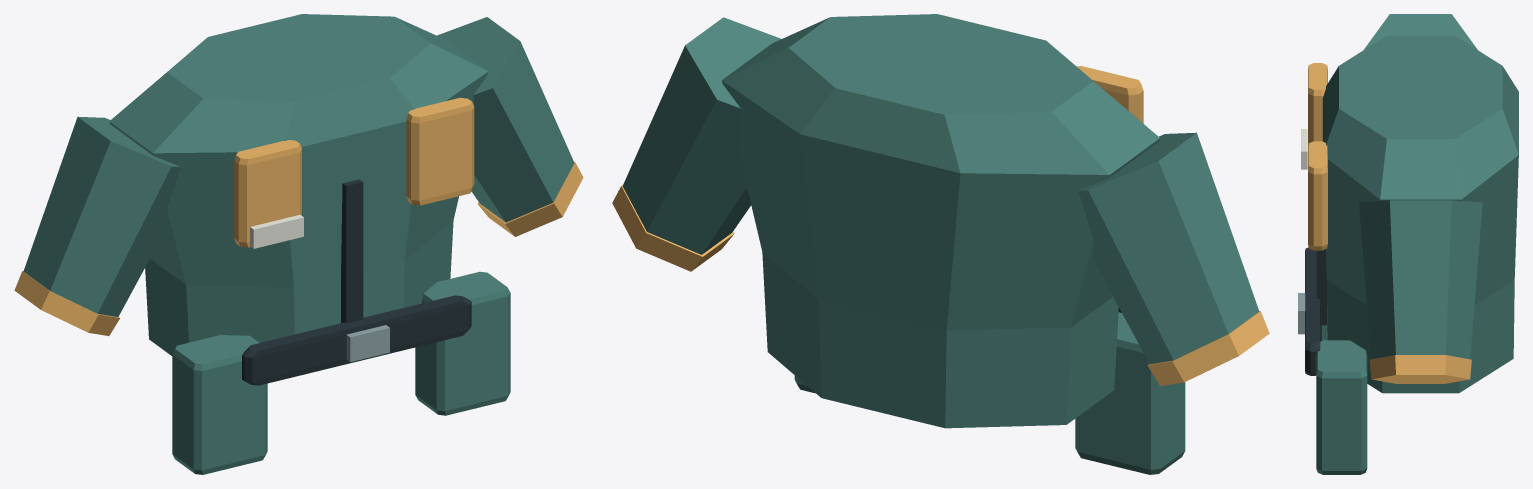
File: SM_NPC_TOP_004_PilotCoat.glb
The picture shows the model from 3 angles, left to right: view 1: azimuth 30°, elevation 25°; view 2: azimuth 150°, elevation 25°; view 3: azimuth 270°, elevation 25°; orthographic projection. The views are drawn at different scales.
Parts seen in each view (by area): view 1: SM_NPC_TOP_004_PilotCoat; view 2: SM_NPC_TOP_004_PilotCoat; view 3: SM_NPC_TOP_004_PilotCoat.
Boxes of the visible parts, <box> form: SM_NPC_TOP_004_PilotCoat: <box>14,14,583,474</box>; SM_NPC_TOP_004_PilotCoat: <box>612,14,1269,474</box>; SM_NPC_TOP_004_PilotCoat: <box>1298,14,1518,474</box>.
Bounding box in the file's own units: 1.03 × 0.615 × 0.3888.
